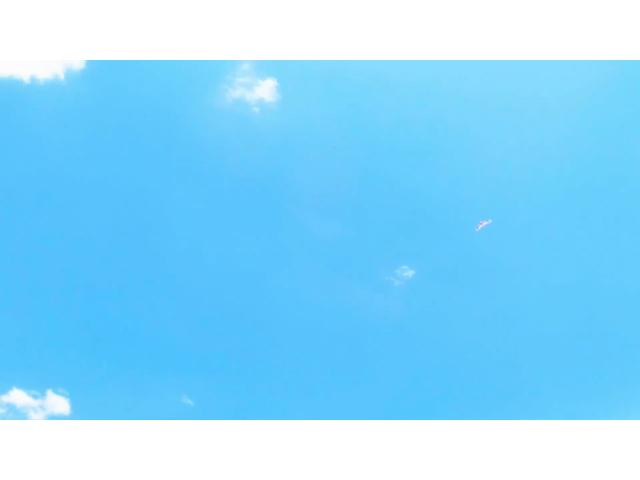Anti-Drone: (466, 212, 496, 238)
